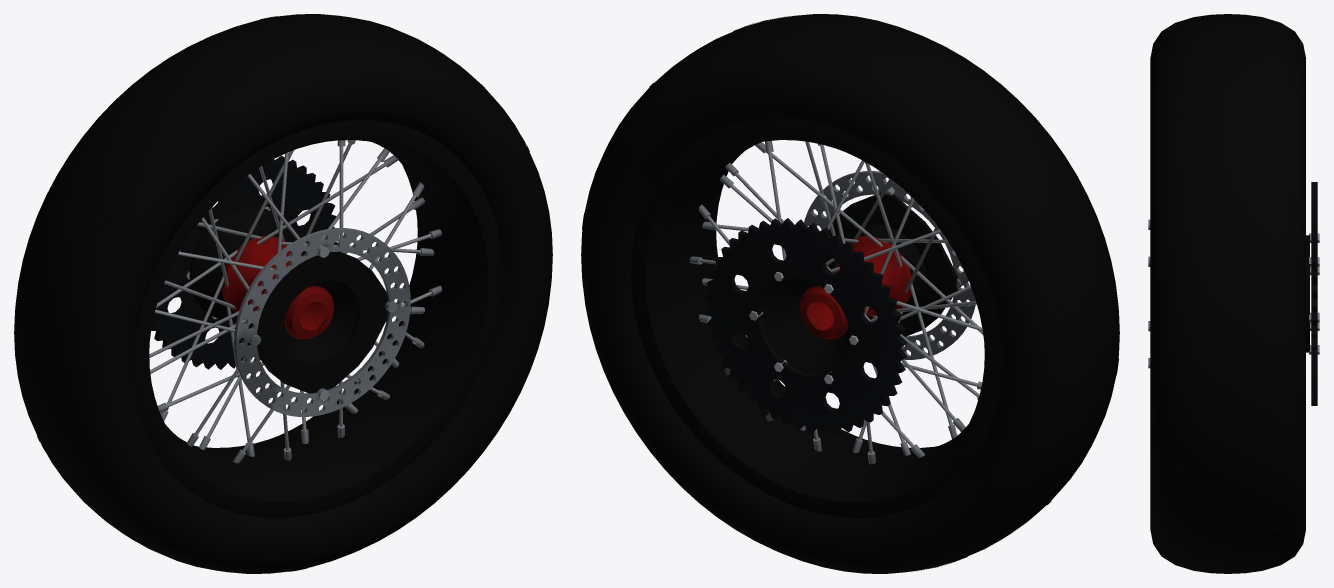
The model's file is bike_supermoto_wheelR.glb.
3 views of the same model, side by side, from view 1: azimuth 30°, elevation 25°; view 2: azimuth 150°, elevation 25°; view 3: azimuth 270°, elevation 25° (orthographic). The views are drawn at different scales.
Visible parts, largest first — view 1: sm_wheelR_tyre, sm_wheelR_rim, sm_wheelR_disc, sm_wheelR_spokes, sm_wheelR_sprocket, sm_wheelR_carrier, sm_wheelR_hub, sm_wheelR_scone, sm_wheelR_dcone, sm_wheelR_nipples, sm_wheelR_cuts; view 2: sm_wheelR_tyre, sm_wheelR_rim, sm_wheelR_sprocket, sm_wheelR_spokes, sm_wheelR_scone, sm_wheelR_carrier, sm_wheelR_disc, sm_wheelR_hub, sm_wheelR_nipples, sm_wheelR_cuts, sm_wheelR_dcone; view 3: sm_wheelR_tyre, sm_wheelR_cuts, sm_wheelR_sprocket, sm_wheelR_scone, sm_wheelR_spb.
Part boxes in pixels (box(x1,y1,x2,y2)): sm_wheelR_tyre: box(14, 14, 552, 573); sm_wheelR_rim: box(133, 120, 502, 517); sm_wheelR_disc: box(234, 228, 410, 416); sm_wheelR_spokes: box(149, 143, 431, 452); sm_wheelR_sprocket: box(151, 155, 337, 369); sm_wheelR_carrier: box(249, 251, 387, 393); sm_wheelR_hub: box(221, 236, 333, 339); sm_wheelR_scone: box(189, 207, 294, 320); sm_wheelR_dcone: box(282, 280, 358, 361); sm_wheelR_nipples: box(149, 140, 441, 463); sm_wheelR_cuts: box(18, 16, 529, 571); sm_wheelR_tyre: box(581, 14, 1119, 573); sm_wheelR_rim: box(631, 120, 1000, 517); sm_wheelR_sprocket: box(704, 218, 907, 434); sm_wheelR_spokes: box(699, 141, 983, 453); sm_wheelR_scone: box(761, 278, 850, 374); sm_wheelR_carrier: box(825, 192, 957, 336); sm_wheelR_disc: box(804, 171, 975, 359); sm_wheelR_hub: box(799, 236, 911, 339); sm_wheelR_nipples: box(689, 140, 982, 464); sm_wheelR_cuts: box(582, 16, 1118, 571); sm_wheelR_dcone: box(850, 224, 926, 308); sm_wheelR_tyre: box(1150, 14, 1305, 573); sm_wheelR_cuts: box(1175, 21, 1280, 572); sm_wheelR_sprocket: box(1311, 182, 1317, 405); sm_wheelR_scone: box(1306, 235, 1309, 352); sm_wheelR_spb: box(1309, 233, 1319, 354).
Size of the model in its own units: 0.63 by 0.63 by 0.193.
